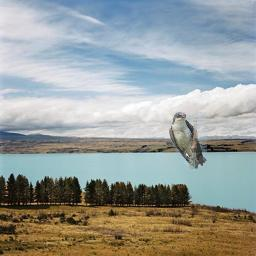Swallow: (169, 112, 207, 169)
